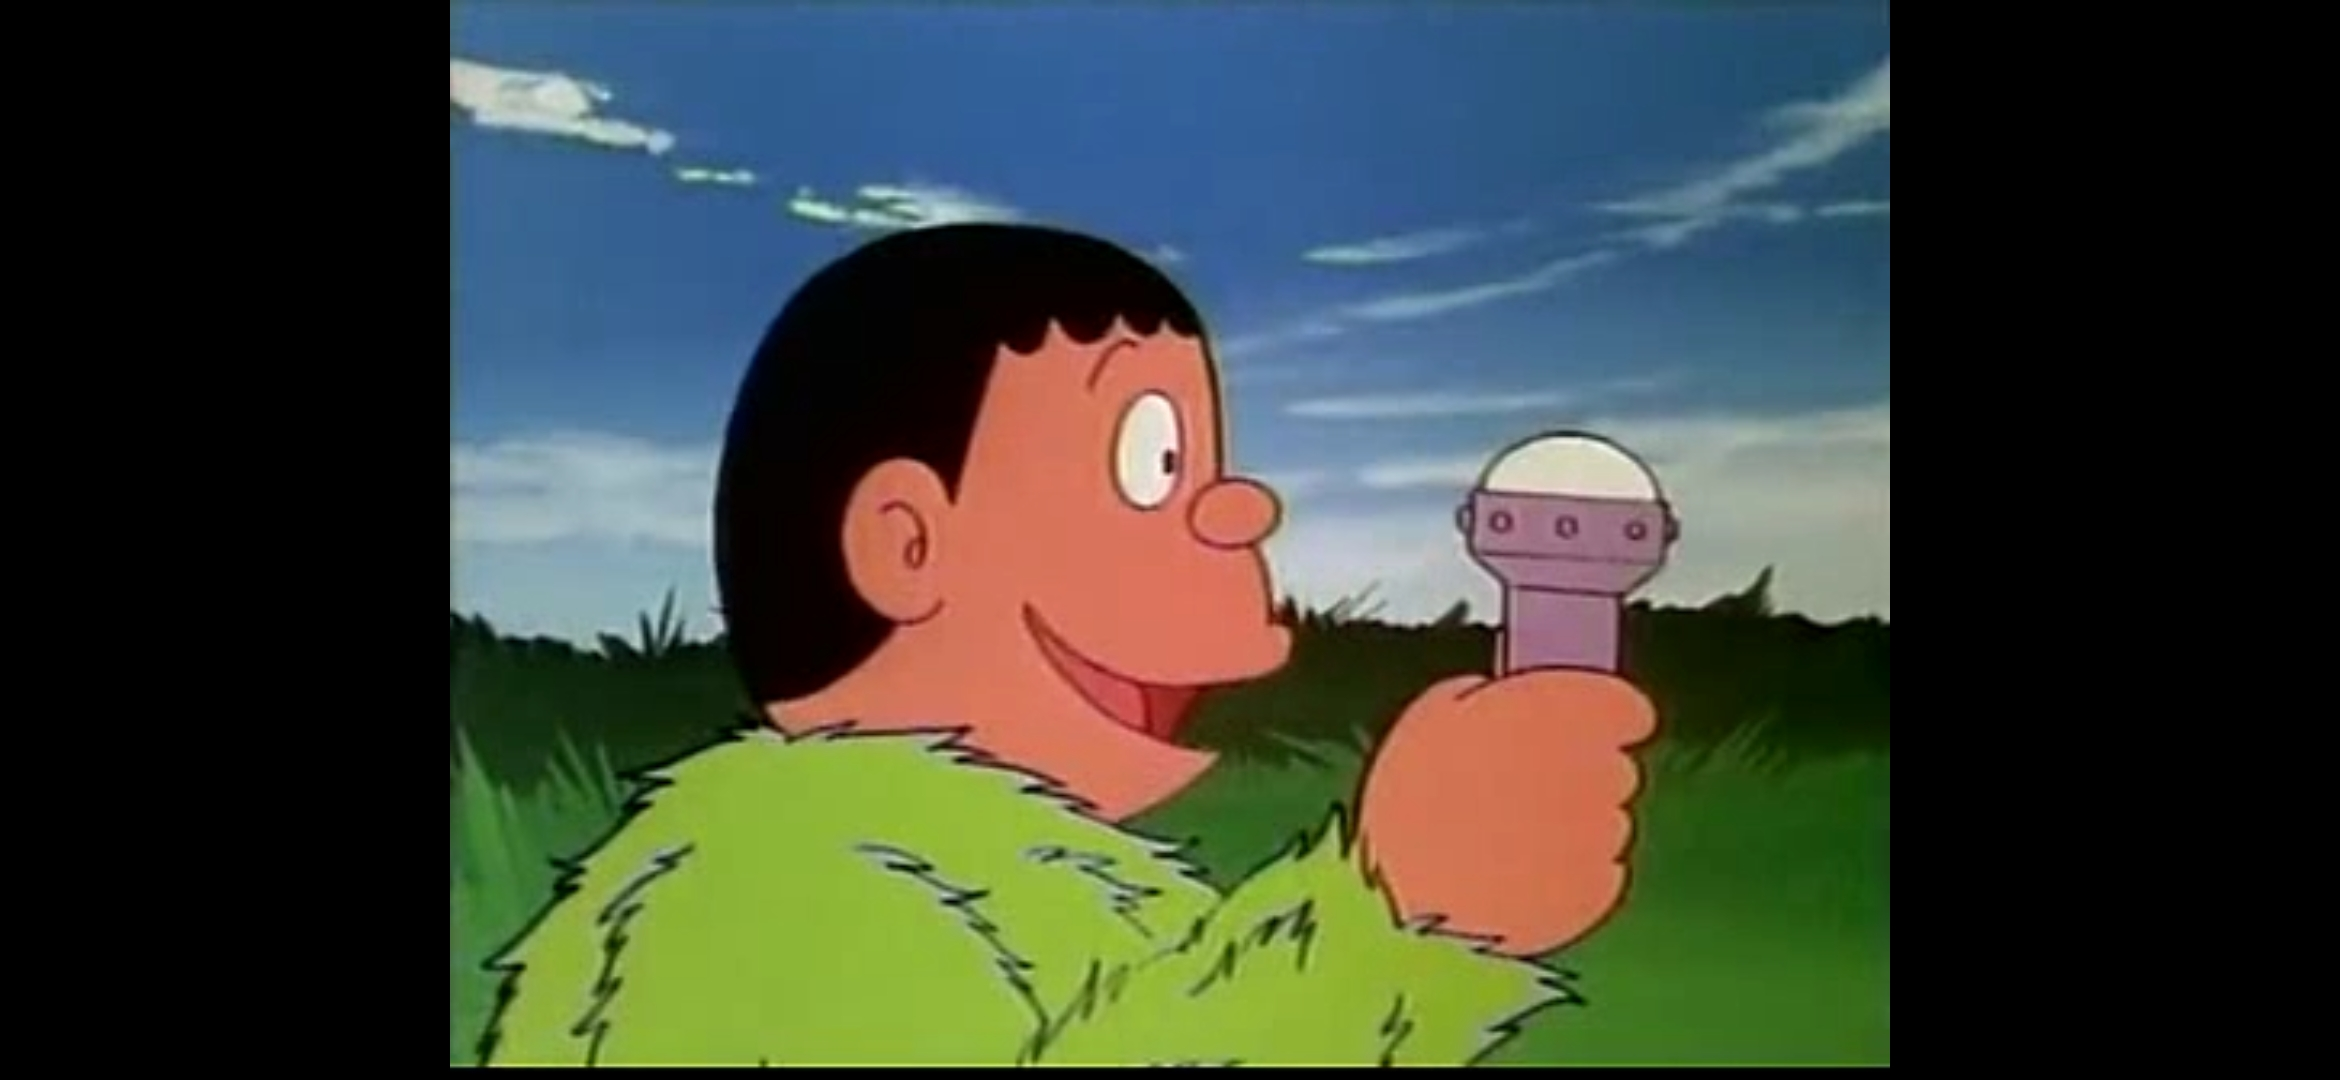Suneo: (710, 222, 1289, 822)
